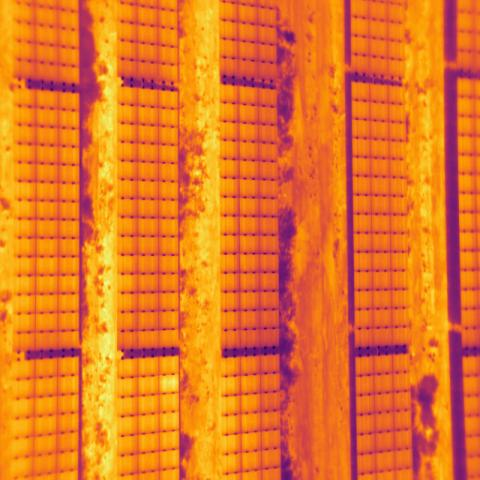fault: (160, 374, 177, 394)
